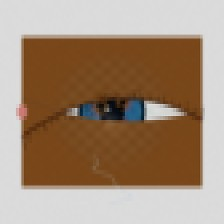foreign_body_visible: (110, 115, 133, 133)
